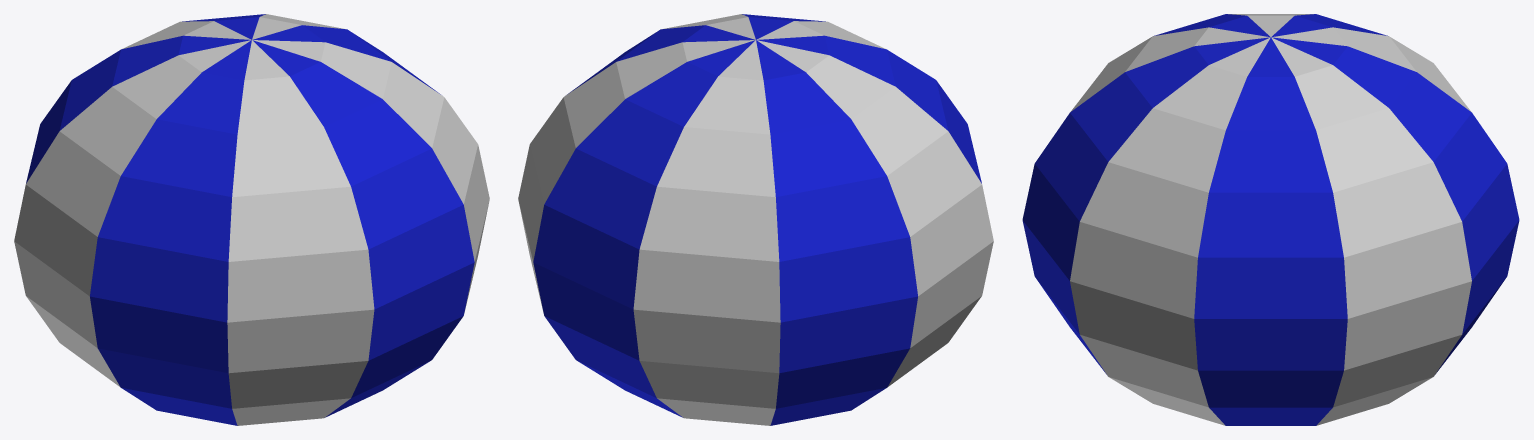
Rendered from beachball.obj.
3 renders of one model, left to right at view 1: azimuth 30°, elevation 25°; view 2: azimuth 150°, elevation 25°; view 3: azimuth 270°, elevation 25°, orthographic.
Parts seen in each view (by area): view 1: Sphere; view 2: Sphere; view 3: Sphere.
Boxes of the visible parts, bbox=[...] form: Sphere: bbox=[14, 14, 489, 425]; Sphere: bbox=[518, 14, 993, 425]; Sphere: bbox=[1022, 14, 1519, 425].
Bounding box in the file's own units: 0.9417 × 0.8098 × 0.9985.
